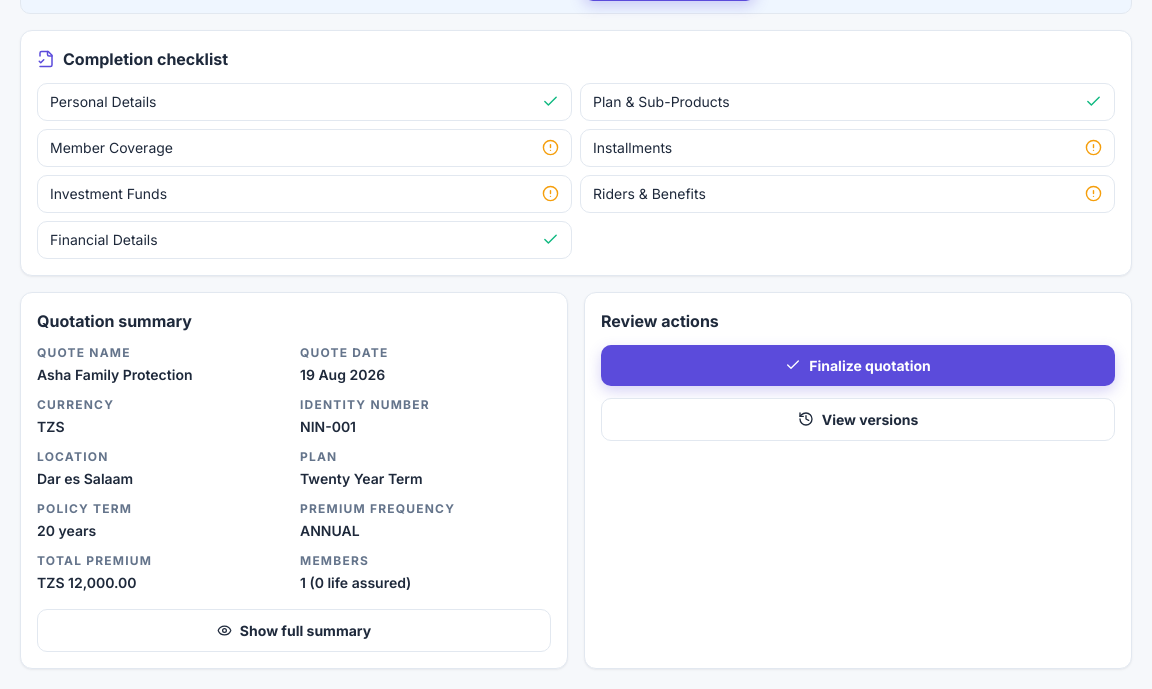
Test: OL quotation detail lifecycle › shows a short summary card and reveals the full summary in a modal
The image size is (1152, 689).
(page scrolled)
Check: the text "Twenty Year Term" is shown, box x1=300 y1=470 x2=423 y2=487
Check: the text "20 years" is shown, box x1=37 y1=522 x2=96 y2=539
Click the button "Show full summary" at coordinates (294, 630), box x1=37 y1=609 x2=551 y2=652
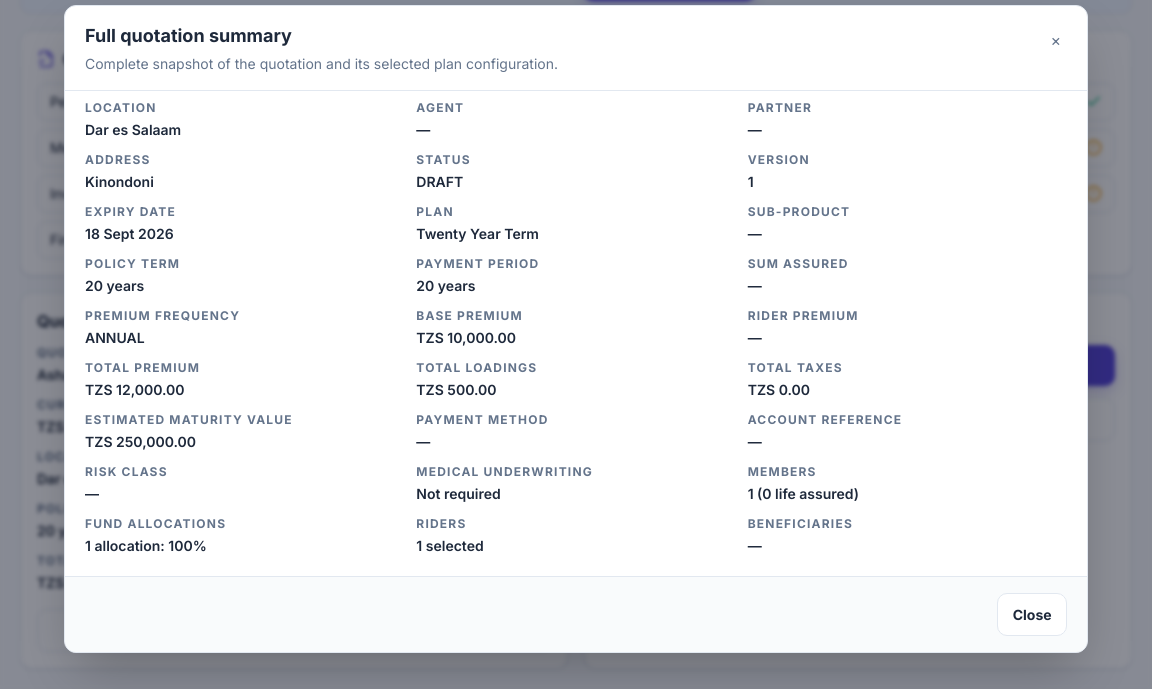
Check: the heading "Full quotation summary" is shown, box x1=85 y1=25 x2=292 y2=46
Check: the text "Kinondoni" is shown, box x1=85 y1=173 x2=154 y2=190
Check: the text "Fund Allocations" is shown, box x1=85 y1=516 x2=226 y2=531
